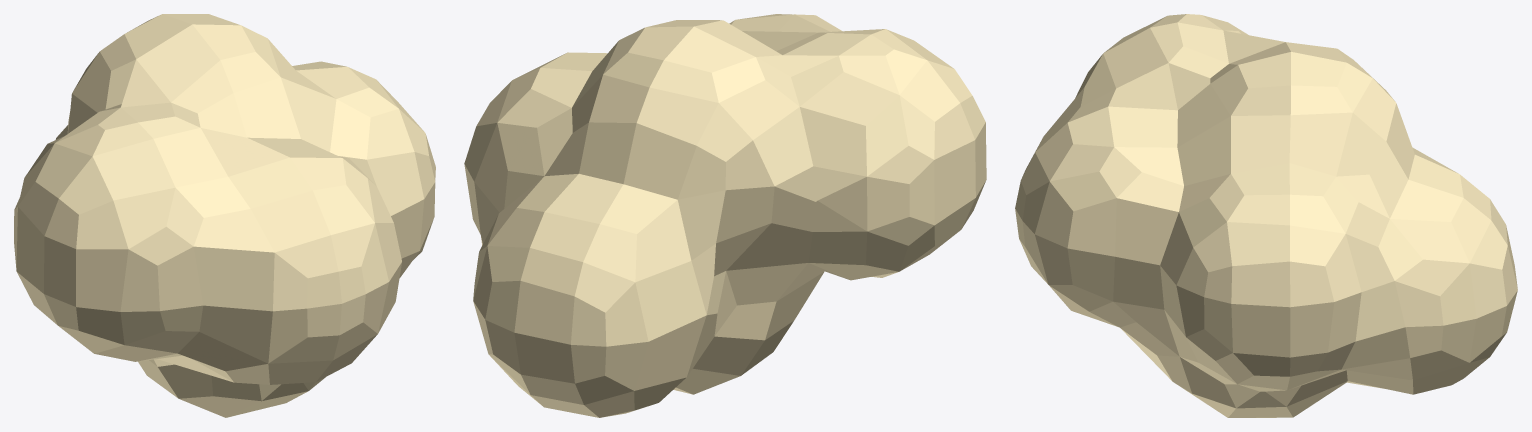
File: RELLENO .fbx
3 views of the same model, side by side, from view 1: azimuth 30°, elevation 25°; view 2: azimuth 150°, elevation 25°; view 3: azimuth 270°, elevation 25° (orthographic). The views are drawn at different scales.
Visible parts, largest first — view 1: re lleno; view 2: re lleno; view 3: re lleno.
Boxes of the visible parts, x1,y1,x2,y2 form: re lleno: [14, 14, 435, 417]; re lleno: [464, 14, 986, 417]; re lleno: [1015, 14, 1517, 417].
Size of the model in its own units: 0.5438 by 0.45 by 0.5918.
